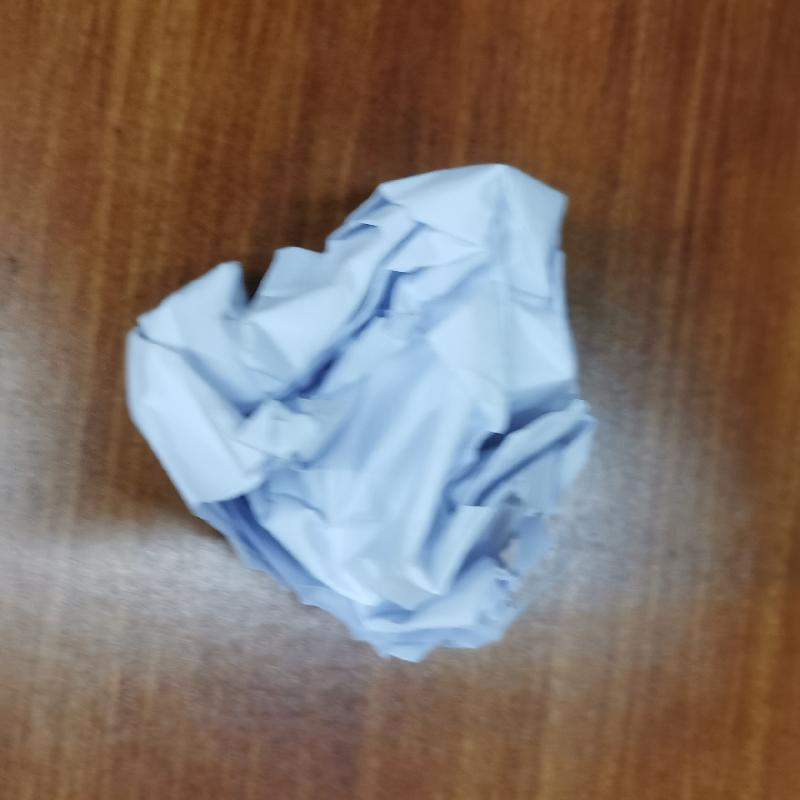spitball: (118, 155, 607, 673)
